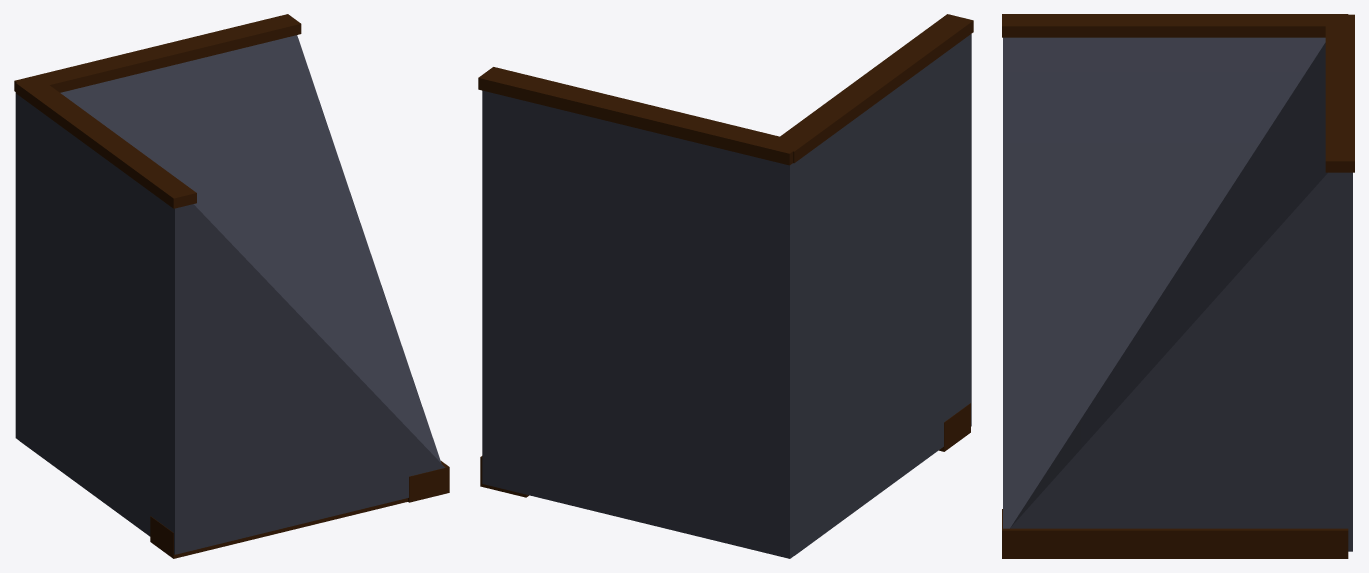
File: MaisRich_toit_coin_inte.fbx
3 views of the same model, side by side, from view 1: azimuth 30°, elevation 25°; view 2: azimuth 150°, elevation 25°; view 3: azimuth 270°, elevation 25° (orthographic). The views are drawn at different scales.
Parts seen in each view (by area): view 1: polySurface114; view 2: polySurface114; view 3: polySurface114.
Part boxes in pixels (box(x1,y1,x2,y2)): polySurface114: box(14, 14, 449, 558); polySurface114: box(478, 14, 973, 558); polySurface114: box(1002, 14, 1354, 558).
Size of the model in its own units: 39.85 by 49.89 by 40.17.
